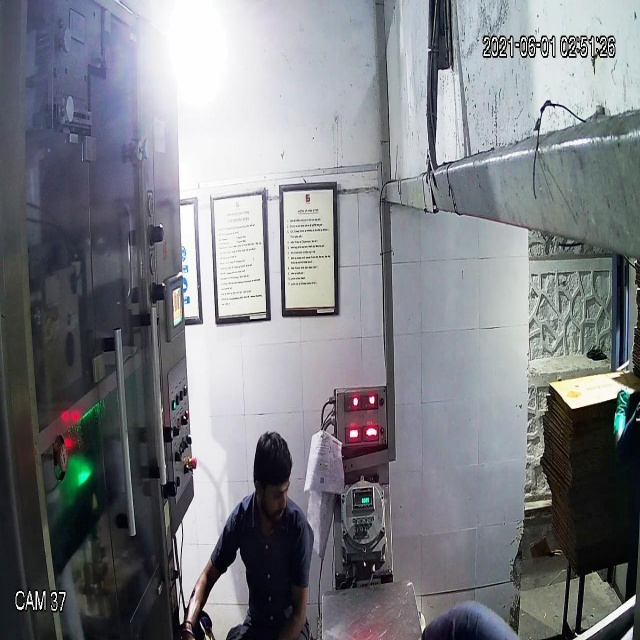Sin_gafas: (251, 473, 295, 504)
